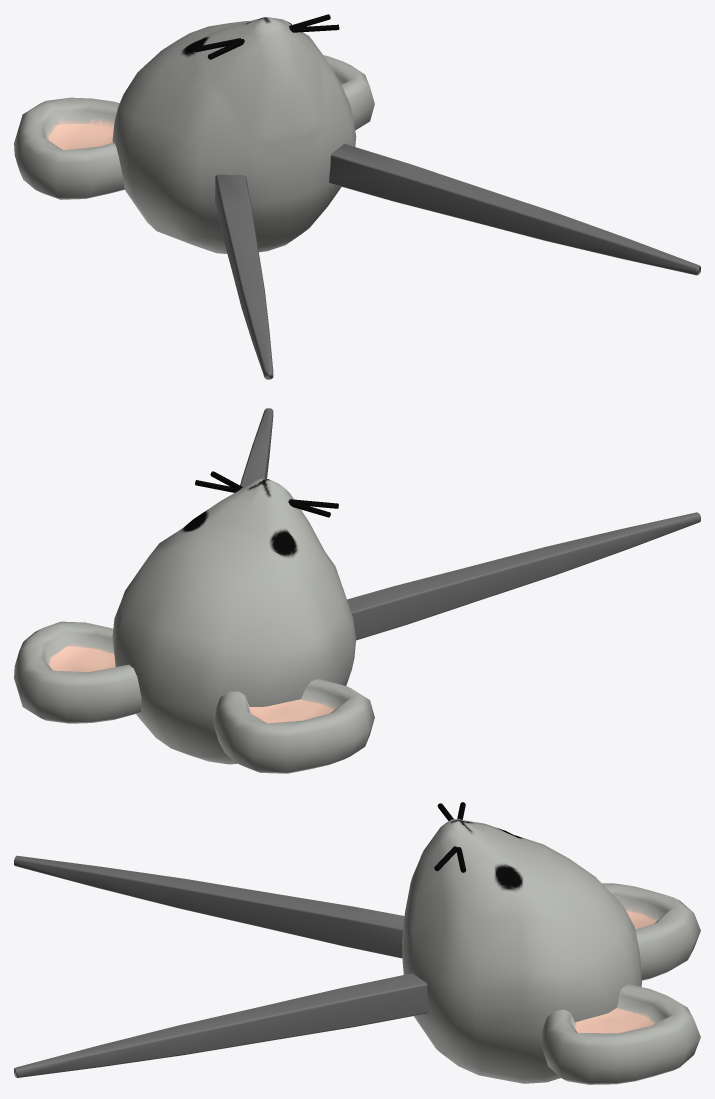
File: mouse.fbx
3 renders of one model, top to bottom at view 1: azimuth 30°, elevation 25°; view 2: azimuth 150°, elevation 25°; view 3: azimuth 270°, elevation 25°, orthographic.
Visible parts, largest first — view 1: mouse, chopsticks_chopsticks_L, chopsticks_chopsticks_R; view 2: mouse, chopsticks_chopsticks_R, chopsticks_chopsticks_L; view 3: mouse, chopsticks_chopsticks_L, chopsticks_chopsticks_R.
Boxes of the visible parts, x1,y1,x2,y2 form: mouse: (14,14,374,253); chopsticks_chopsticks_L: (329,143,700,275); chopsticks_chopsticks_R: (215,174,273,379); mouse: (14,471,374,773); chopsticks_chopsticks_R: (347,512,700,640); chopsticks_chopsticks_L: (240,408,273,486); mouse: (402,802,700,1084); chopsticks_chopsticks_L: (14,973,428,1077); chopsticks_chopsticks_R: (14,855,404,958).
Bounding box in the file's own units: 8.91 × 4.84 × 12.
